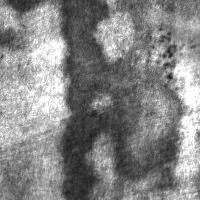patches: (95, 61, 185, 197), (54, 114, 182, 200), (0, 119, 129, 200), (54, 1, 103, 154), (160, 6, 200, 86), (54, 129, 99, 200), (147, 25, 184, 77), (2, 1, 44, 16)
